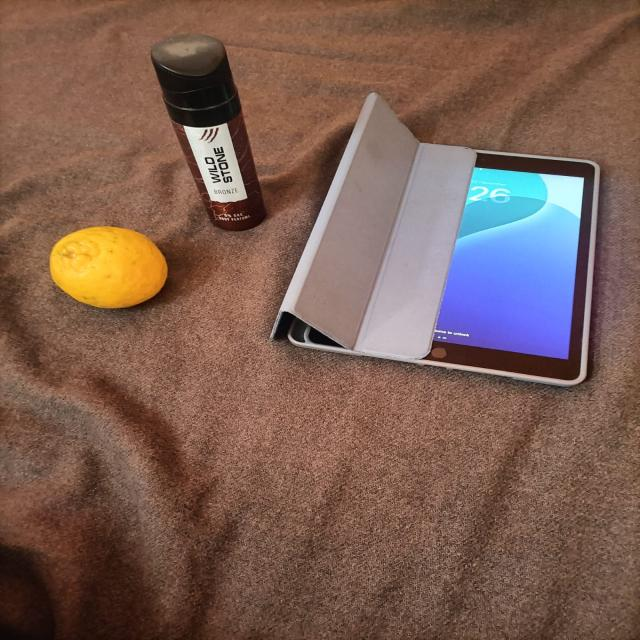orange: (30, 221, 177, 320)
spray: (125, 34, 294, 238)
tablet: (260, 98, 602, 396)
